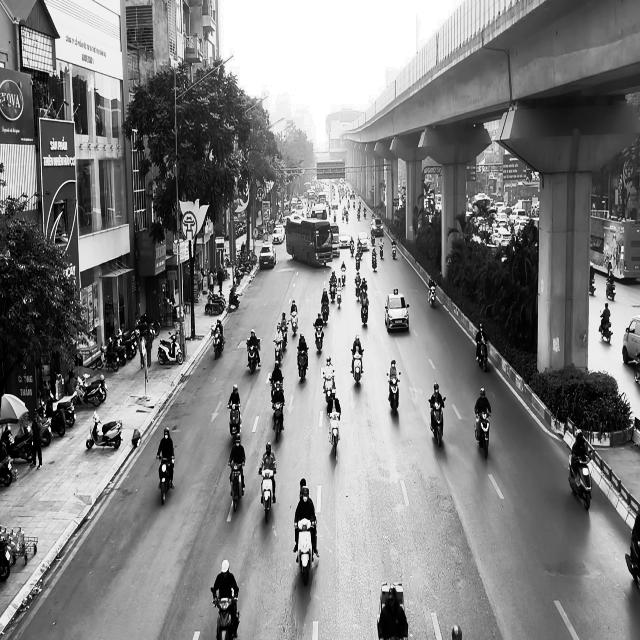bus: (589, 210, 640, 281), (285, 214, 333, 268)
car: (384, 288, 409, 332), (622, 314, 640, 365), (259, 242, 276, 269), (370, 218, 384, 236), (338, 230, 351, 248), (358, 232, 369, 250)
motorbike: (568, 448, 592, 511), (294, 518, 316, 586), (211, 586, 239, 639), (86, 410, 122, 450), (156, 453, 175, 505), (428, 396, 446, 447), (259, 468, 276, 522), (228, 459, 245, 512), (158, 330, 184, 364), (474, 409, 491, 459), (327, 410, 341, 458), (386, 371, 401, 415), (227, 402, 241, 445), (271, 401, 285, 442), (350, 346, 364, 384), (321, 367, 335, 403), (210, 326, 224, 360), (475, 335, 488, 371), (246, 340, 259, 374), (598, 314, 613, 343), (296, 347, 308, 382), (313, 321, 324, 353), (273, 337, 284, 365), (360, 296, 369, 326), (605, 278, 616, 300), (428, 281, 436, 307), (290, 312, 297, 335), (321, 301, 328, 324), (372, 247, 378, 272), (378, 240, 384, 259), (337, 287, 342, 308), (391, 239, 396, 259)
